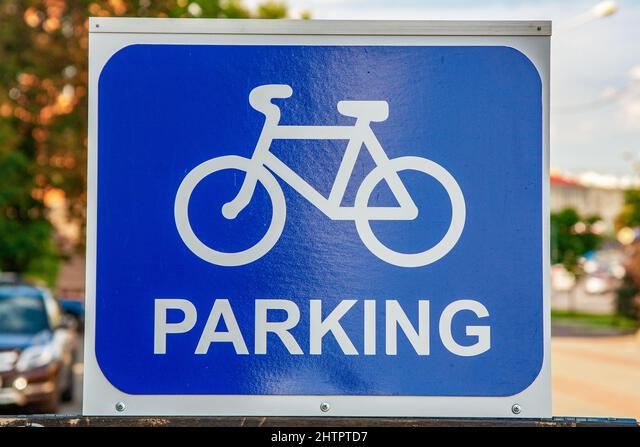Parking Lot Cycle: (101, 34, 534, 398)
